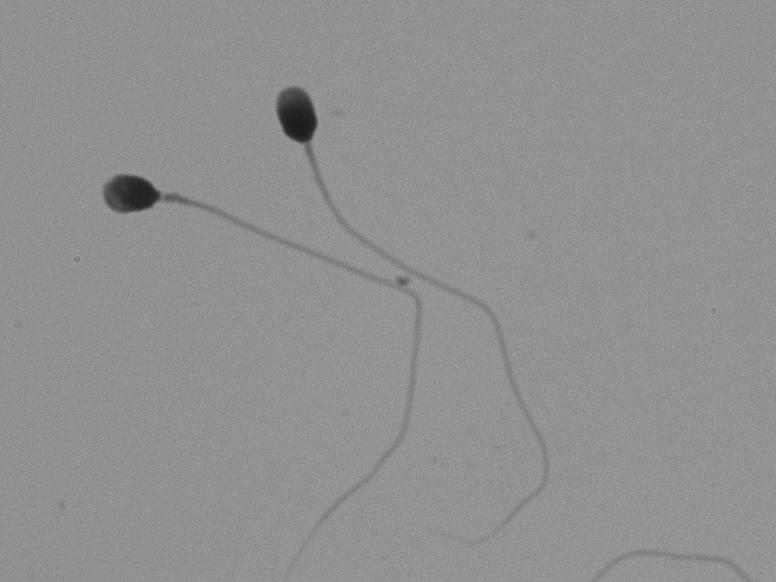Abnormal: (47, 164, 306, 307)
Normal: (264, 40, 536, 416)
